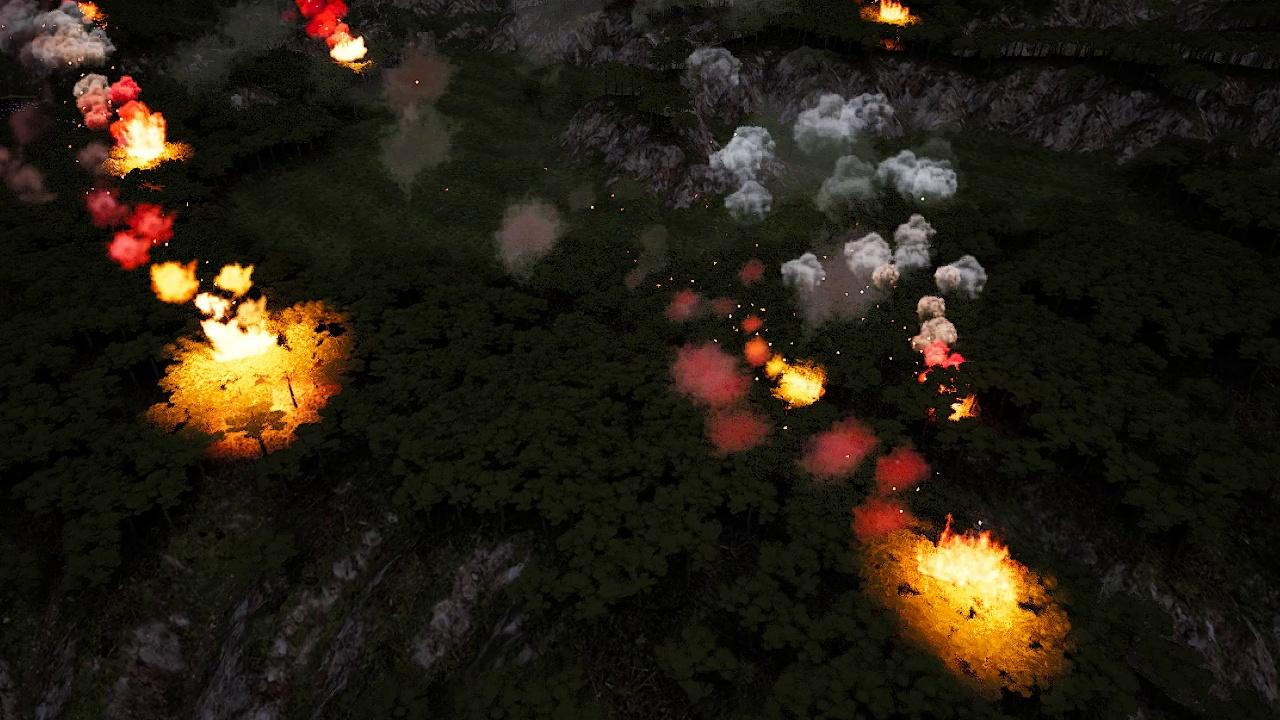fire: (146, 260, 355, 453), (913, 512, 1028, 625), (110, 102, 172, 172), (771, 358, 823, 404), (330, 35, 367, 63), (874, 0, 916, 24), (950, 396, 976, 422), (78, 0, 105, 23)
smoke: (669, 91, 996, 538), (0, 0, 166, 272), (376, 38, 462, 198), (487, 191, 567, 284), (297, 0, 349, 41)
